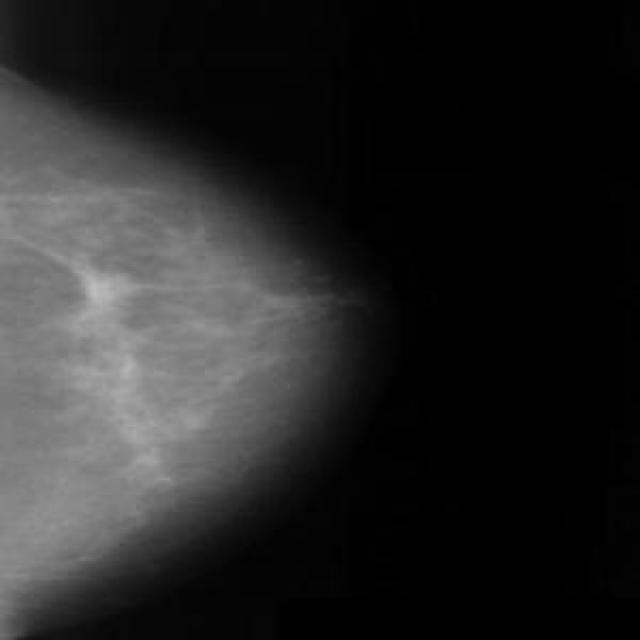tumor: (64, 241, 192, 484)
